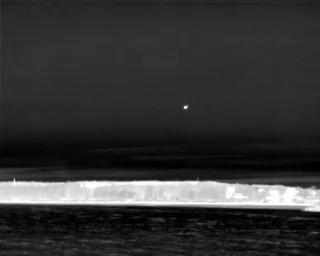HELICOPTER: (180, 102, 191, 114)
